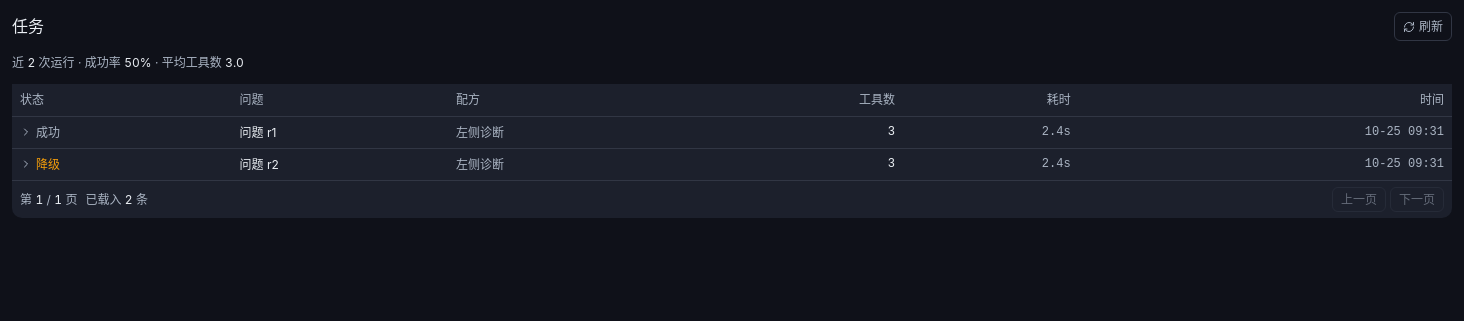
Test: copilot runs page › 点击行展开工具步骤；再次展开命中缓存，不重复请求
The image size is (1464, 321).
Click the row with test id "run-row-r1" at x=732, y=132, box [12,116,1452,148]
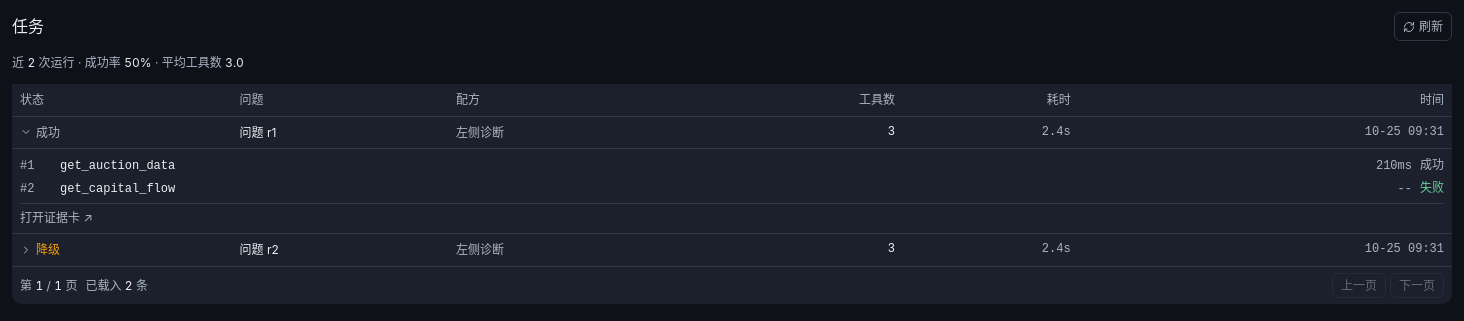
Now the list item with test id "run-step-r1-1" is shown, box [20,155,1444,176]
Now the list item with test id "run-step-r1-1" shows "get_auction_data", box [60,159,175,173]
Now the list item with test id "run-step-r1-2" shows "失败", box [1420,180,1444,195]
Click the row with test id "run-row-r1" at x=732, y=132, box [12,116,1452,148]
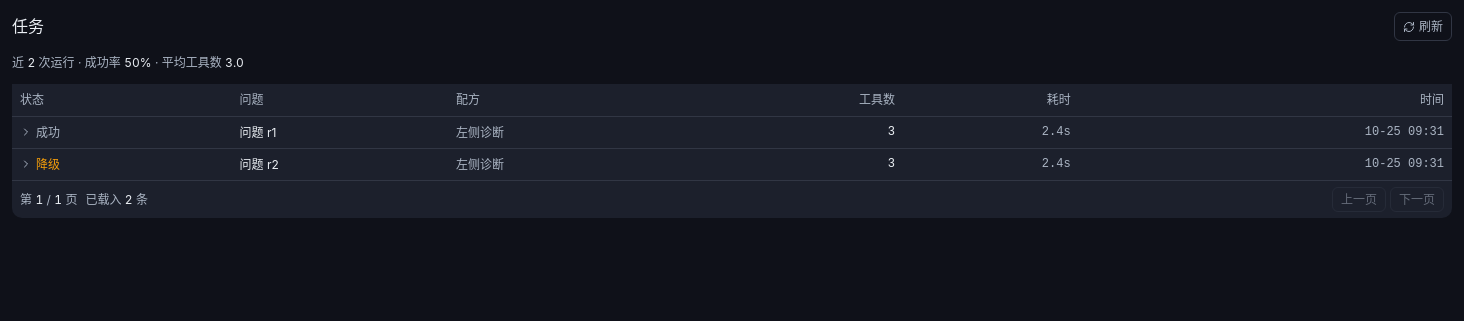
Now the row with test id "run-steps-r1" is gone
Note: 再展开：来自 Map 缓存，仍只有 1 次请求
Click the row with test id "run-row-r1" at x=732, y=132, box [12,116,1452,148]
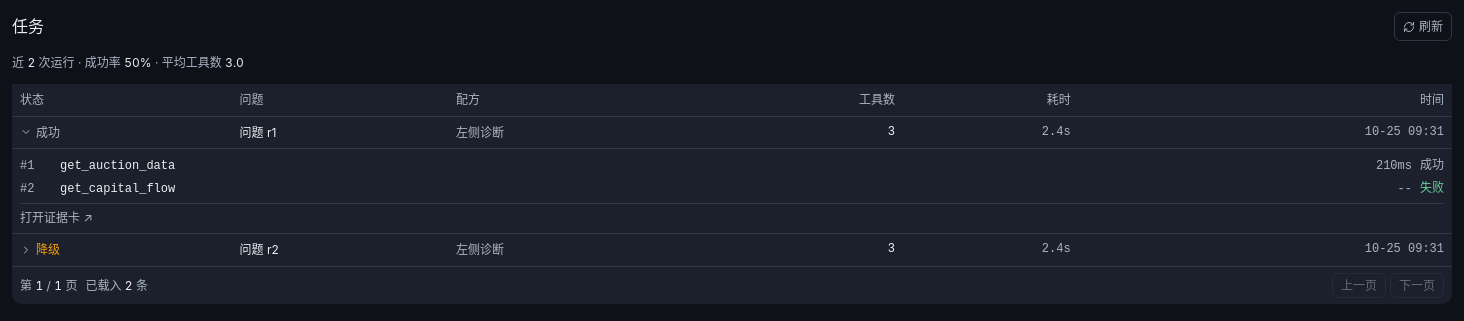
Now the list item with test id "run-step-r1-1" is shown, box [20,155,1444,176]
